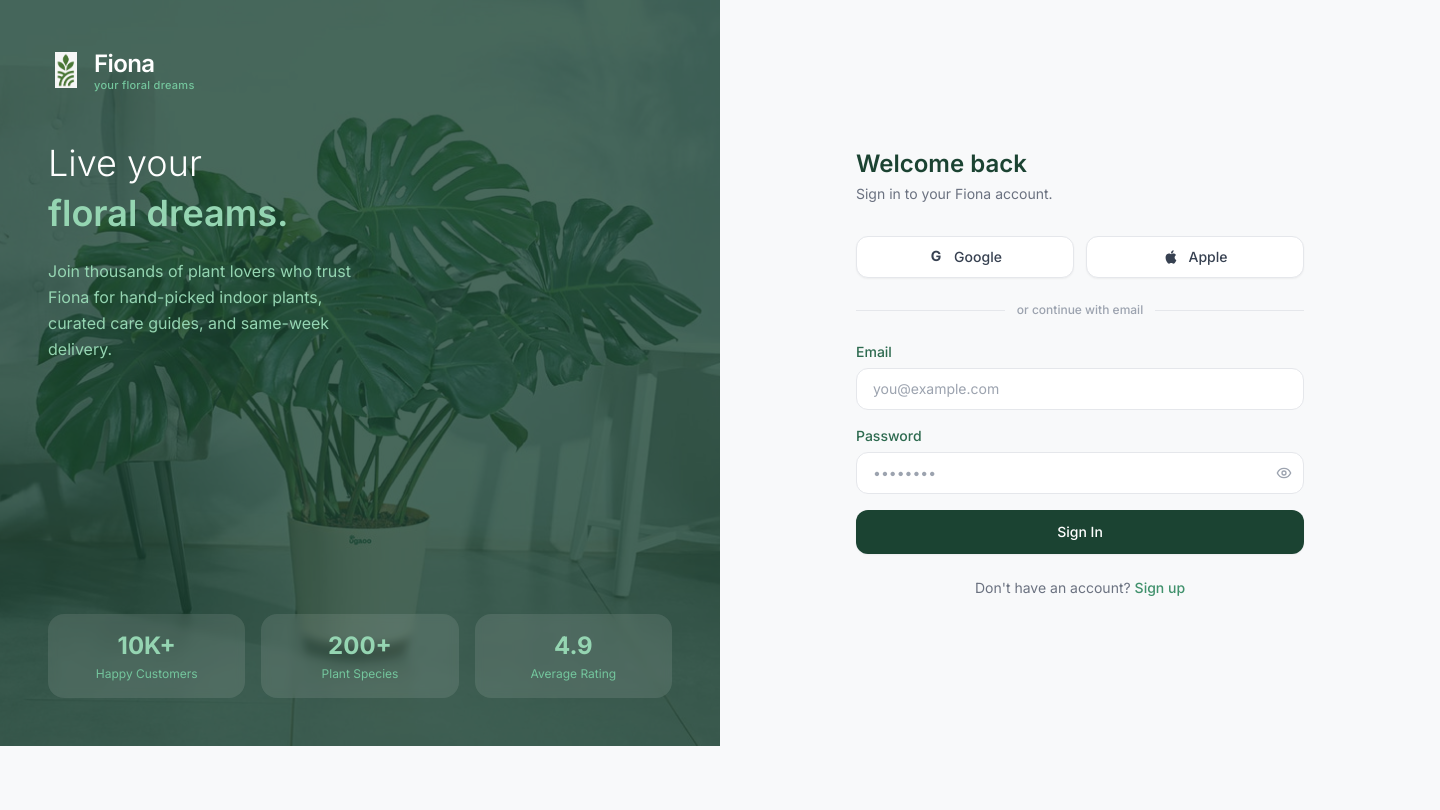
Test: Authentication & Security Boundary Exceptions - AuthPage.tsx › EX-AUTH-05: Form Validation with invalid email format › clears the inline email error when user starts typing a correction
The width and height of the screenshot is (1440, 810).
Type "bademail" into the field with placeholder "you@example.com". click: (1080, 389)
box: [856, 368, 1304, 410]
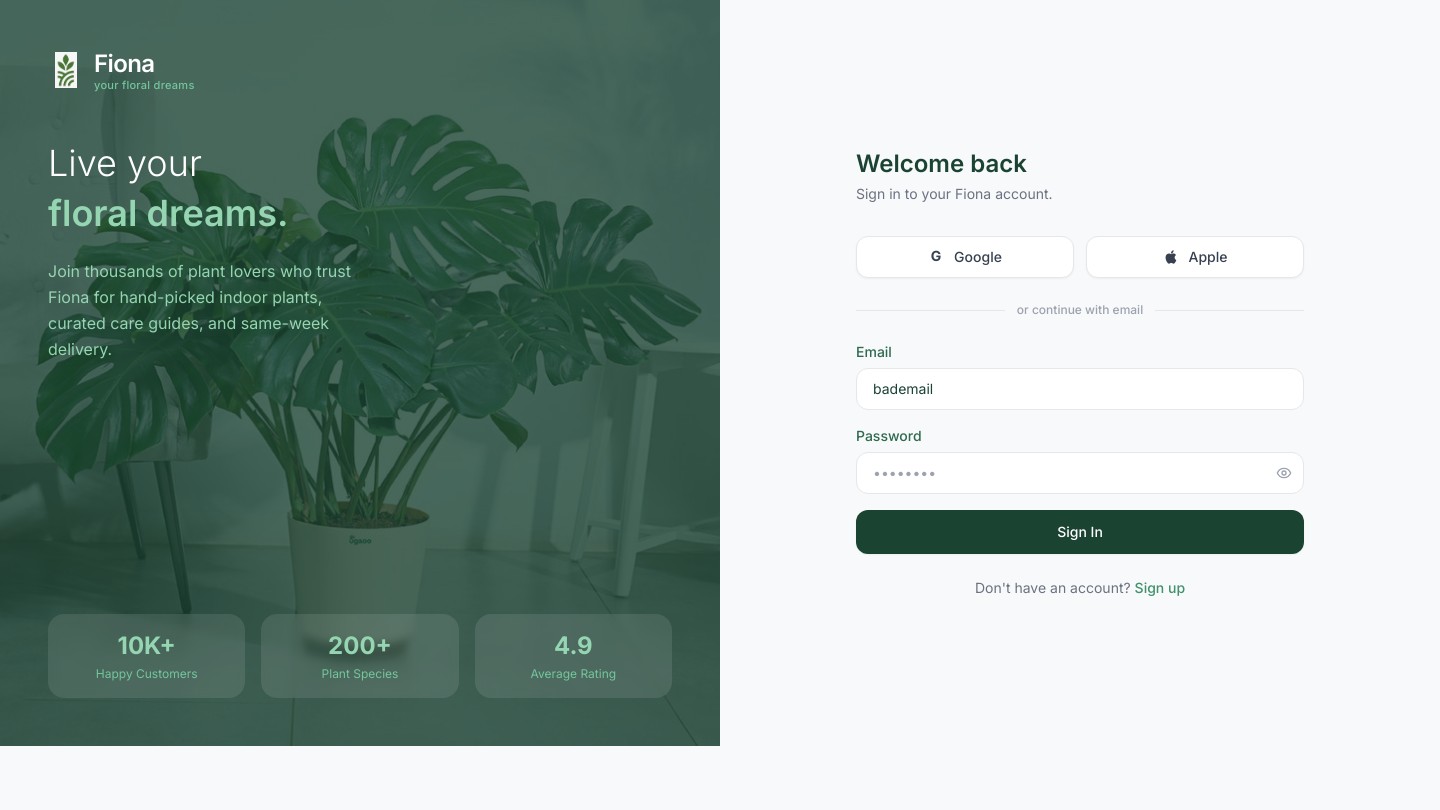
Click the button "Sign In". click: (1080, 532)
box: [856, 510, 1304, 554]
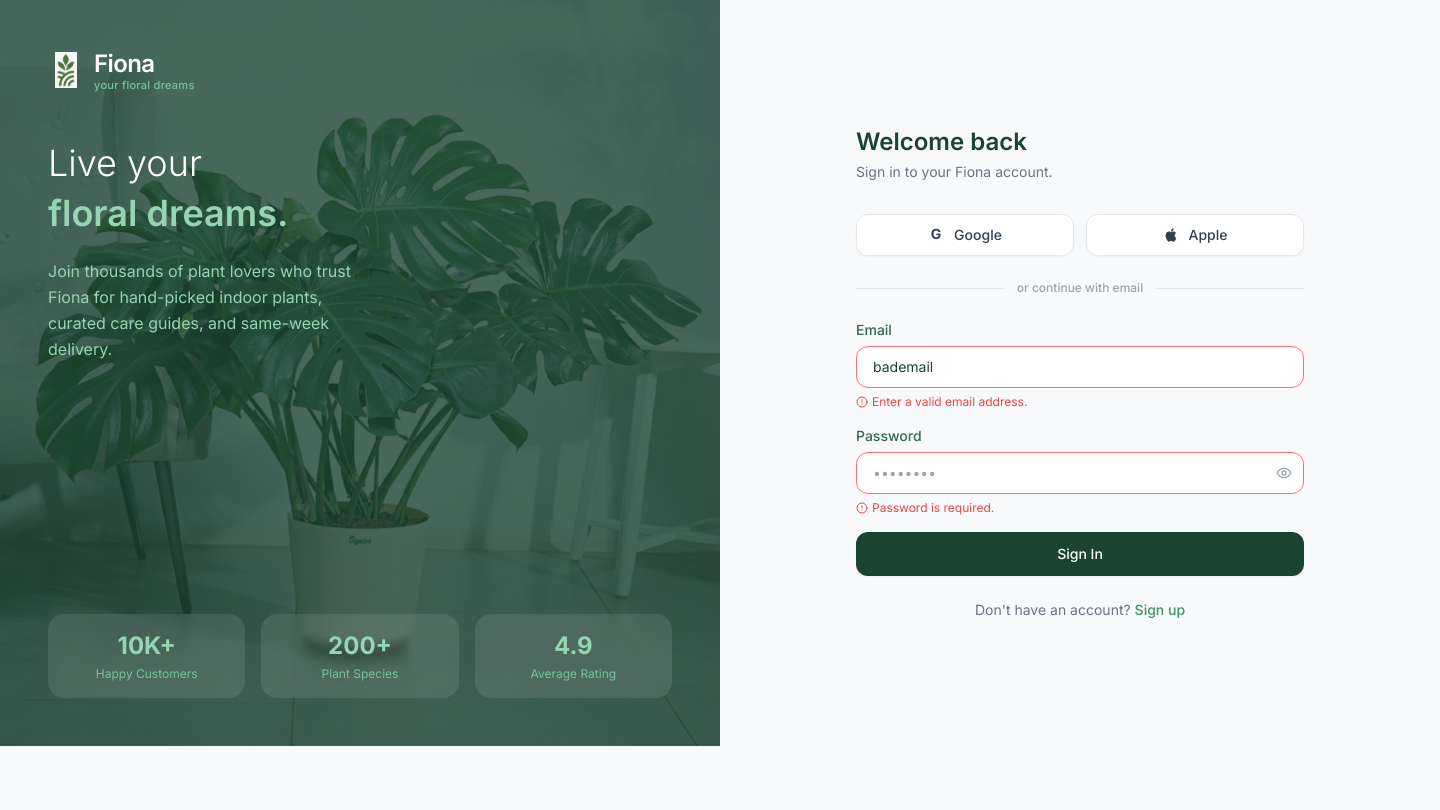
Expected: the text "Enter a valid email address." is shown, [856, 394, 1027, 409]
Note: User corrects input
Replace the text in the field with placeholder "you@example.com" with "bademail@". click: (1080, 367)
box: [856, 346, 1304, 388]
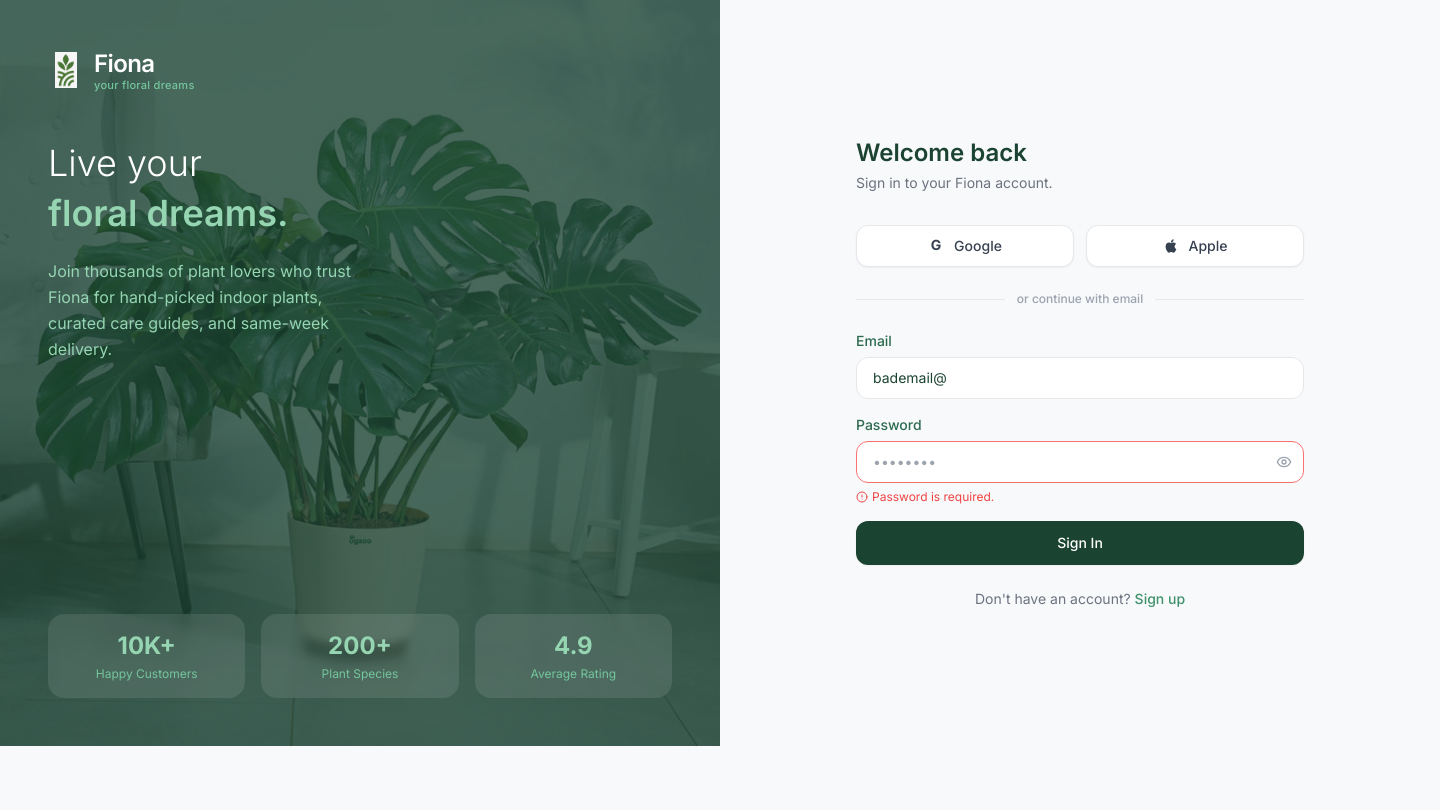
Expected: the text "Enter a valid email address." is gone
